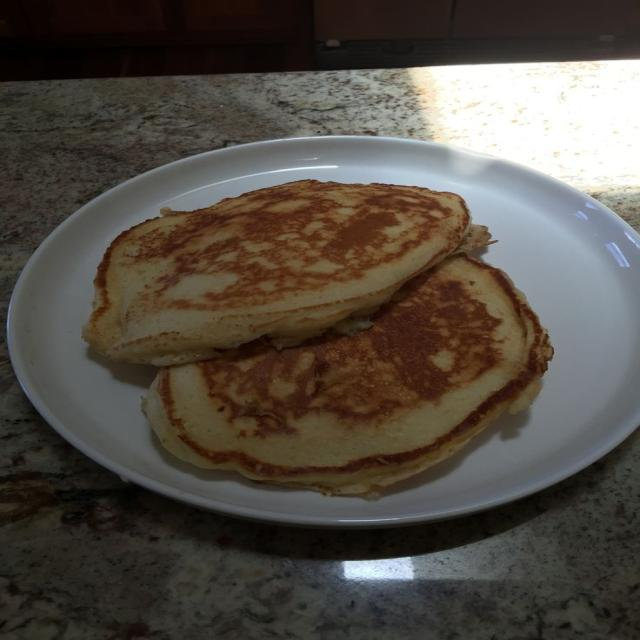pancake: (146, 254, 553, 494), (83, 181, 471, 365)
